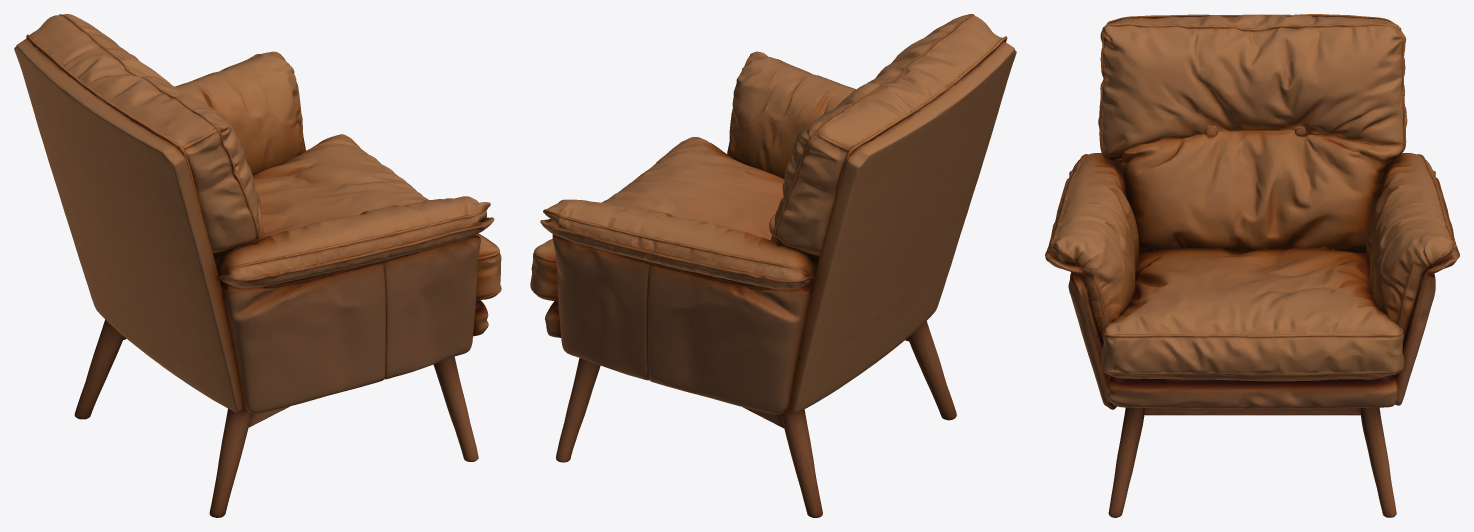
The model's file is tripo.glb.
3 views of the same model, side by side, from view 1: azimuth 30°, elevation 25°; view 2: azimuth 150°, elevation 25°; view 3: azimuth 270°, elevation 25° (orthographic). The views are drawn at different scales.
Visible parts, largest first — view 1: tripo_node_25a29ee3-13e3-4dbe-a8cb-62da7c08ffbc; view 2: tripo_node_25a29ee3-13e3-4dbe-a8cb-62da7c08ffbc; view 3: tripo_node_25a29ee3-13e3-4dbe-a8cb-62da7c08ffbc.
Part boxes in pixels (x1=…): tripo_node_25a29ee3-13e3-4dbe-a8cb-62da7c08ffbc: x1=14, y1=14, x2=501, y2=517; tripo_node_25a29ee3-13e3-4dbe-a8cb-62da7c08ffbc: x1=530, y1=14, x2=1016, y2=517; tripo_node_25a29ee3-13e3-4dbe-a8cb-62da7c08ffbc: x1=1045, y1=14, x2=1459, y2=517.
Size of the model in its own units: 0.9142 by 0.9979 by 1.
1 material, 1 textured.
